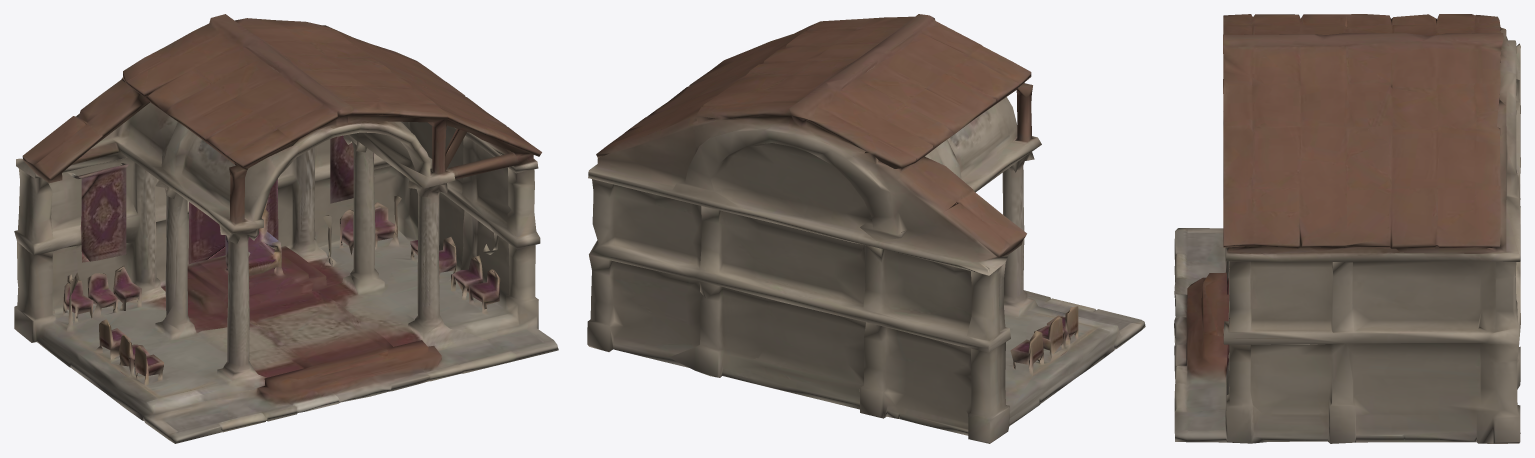
The model's file is palace_interior.glb.
The picture shows the model from 3 angles, left to right: view 1: azimuth 30°, elevation 25°; view 2: azimuth 150°, elevation 25°; view 3: azimuth 270°, elevation 25°; orthographic projection. The views are drawn at different scales.
Visible parts, largest first — view 1: tripo_node_e6b29297-154b-4936-a30c-d950b5704def; view 2: tripo_node_e6b29297-154b-4936-a30c-d950b5704def; view 3: tripo_node_e6b29297-154b-4936-a30c-d950b5704def.
Part boxes in pixels (x1=…): tripo_node_e6b29297-154b-4936-a30c-d950b5704def: x1=14, y1=14, x2=558, y2=443; tripo_node_e6b29297-154b-4936-a30c-d950b5704def: x1=587, y1=14, x2=1145, y2=443; tripo_node_e6b29297-154b-4936-a30c-d950b5704def: x1=1174, y1=14, x2=1520, y2=443.
Bounding box in the file's own units: 1 × 0.6626 × 0.6871.
Materials: 1 (1 with a texture image).
